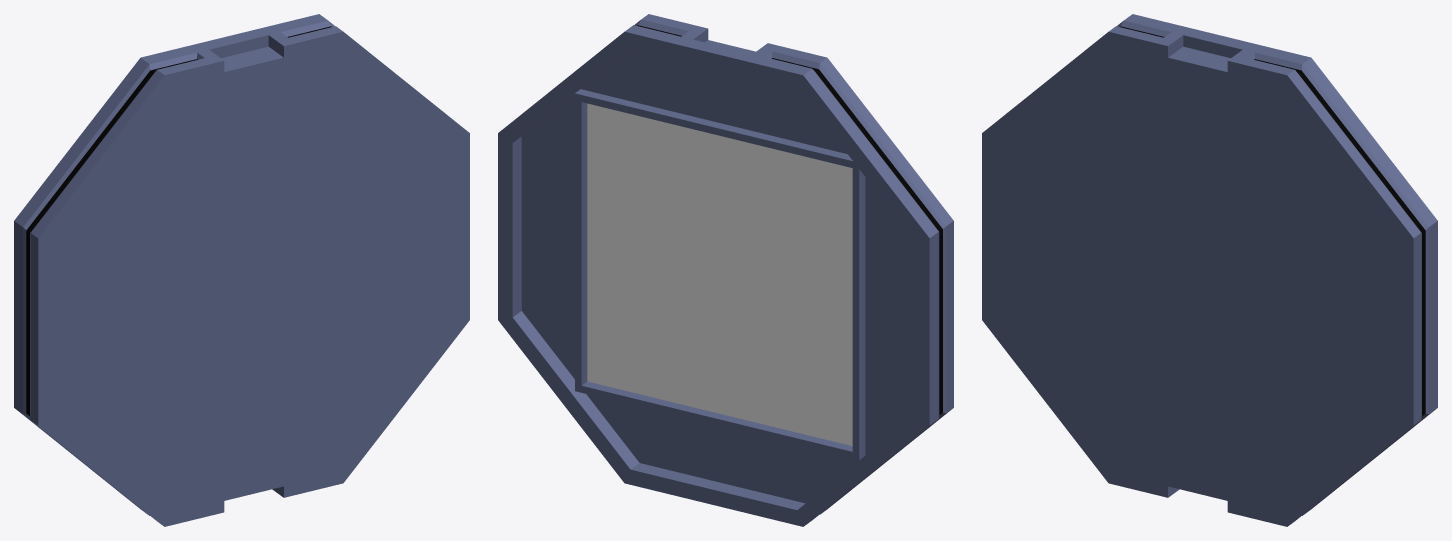
Rendered from Node_Rezistor.fbx.
3 renders of one model, left to right at view 1: azimuth 30°, elevation 25°; view 2: azimuth 150°, elevation 25°; view 3: azimuth 330°, elevation 25°, orthographic.
Parts seen in each view (by area): view 1: Node_RezistorBake.001; view 2: Node_RezistorBake.001; view 3: Node_RezistorBake.001.
Part boxes in pixels (bbox=[...]): Node_RezistorBake.001: bbox=[14, 14, 469, 526]; Node_RezistorBake.001: bbox=[498, 14, 953, 526]; Node_RezistorBake.001: bbox=[982, 14, 1437, 526].
Size of the model in its own units: 0.9975 by 0.9975 by 0.0967.
